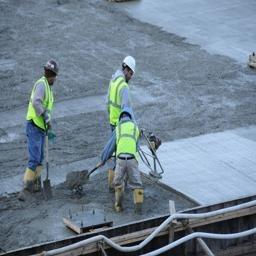hat: (31, 51, 70, 86), (116, 47, 146, 80), (109, 104, 148, 126)
vest: (20, 78, 63, 139), (100, 70, 135, 134), (111, 125, 144, 179)
